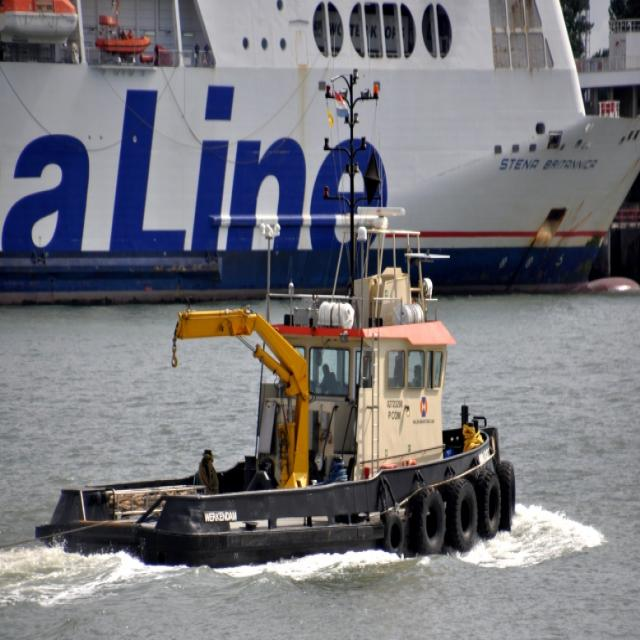tugboat: (32, 200, 521, 585)
